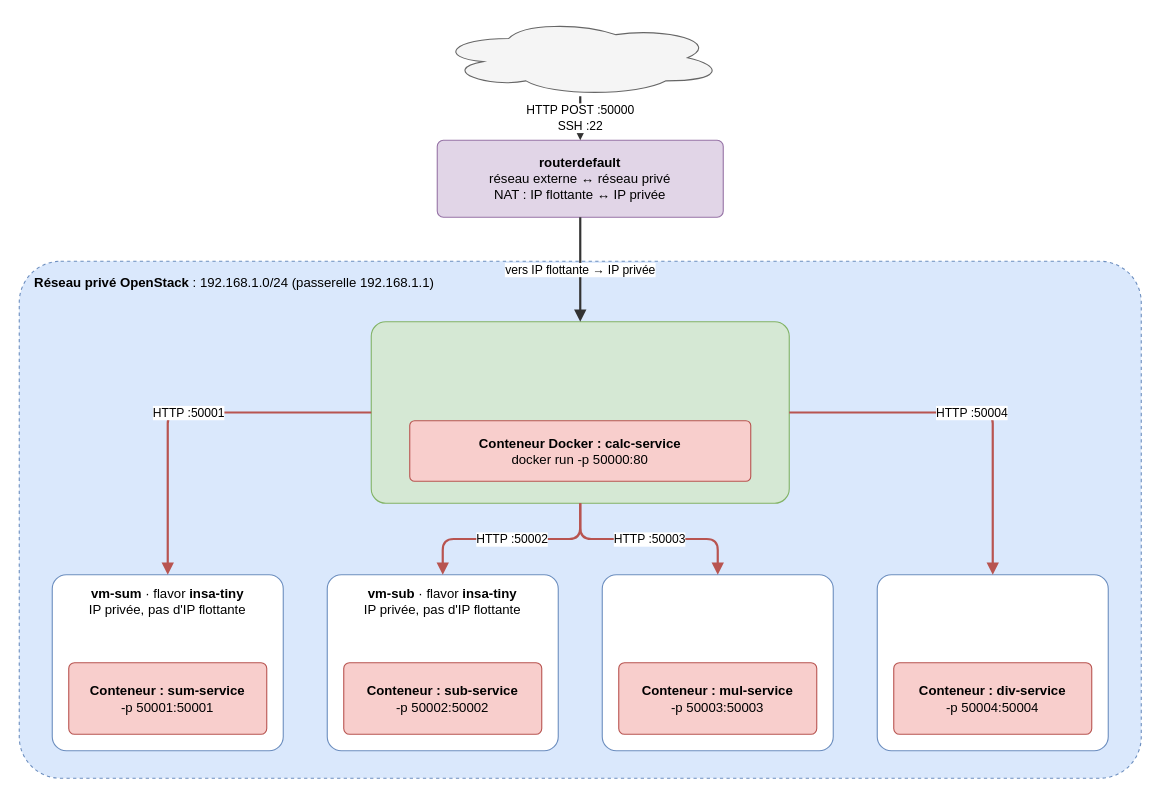
The diagram is 1161 pixels wide and 798 high, and some of its shapes have lost their labels. Each missing label, with the box of its shape:
Internet Machine hôte: (436, 18, 723, 96)
vm-div · flavor insa-tiny IP privée, pas d'IP flottante: (876, 574, 1108, 751)
vm-front : flavor insa-small IP privée + IP flottante (seule VM exposée): (370, 321, 789, 503)
vm-mul · flavor insa-tiny IP privée, pas d'IP flottante: (601, 574, 833, 751)
